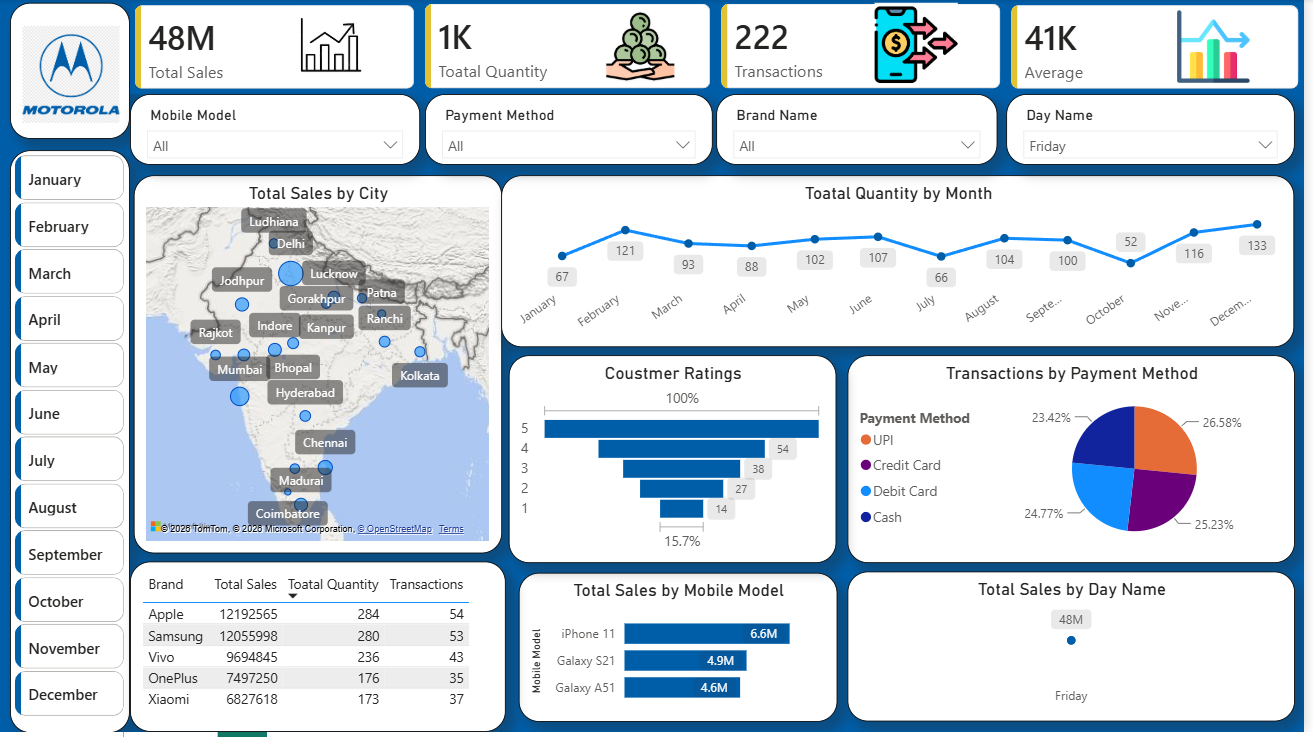

The dashboard page shown, as its layout file describes it:
{"tool":"powerbi","page":{"name":"Page 1","canvas":[1280,720],"ordinal":0},"visuals":[{"type":"shape","box":[10,3.8,117.5,133.8],"z":0},{"type":"image","box":[22.5,0,95,147.5],"z":1000},{"type":"shape","box":[10.1,148.1,117.7,572.2],"z":2000},{"type":"advancedSlicerVisual","fields":{"Values":["Sales_data.Date.Variation.Date Hierarchy.Month"]},"box":[10.1,148.1,117.7,560.8],"z":3000},{"type":"cardVisual","fields":{"Data":["Sales_data.Total Sales"]},"box":[127.6,1.2,284.7,92],"z":4000},{"type":"cardVisual","fields":{"Data":["Sales_data.Toatal Quantity"]},"box":[412.3,0,290.8,93.3],"z":5000},{"type":"cardVisual","fields":{"Data":["Sales_data.Transactions"]},"box":[703.1,0,284.7,93.3],"z":6000},{"type":"cardVisual","fields":{"Data":["Sales_data.Average"]},"box":[987.7,1.2,292,92],"z":7000},{"type":"image","box":[246.6,7.4,157.1,74.8],"z":8000},{"type":"image","box":[568.1,11,121.5,71.2],"z":9000},{"type":"image","box":[841.7,3.7,115.3,82.2],"z":10000},{"type":"image","box":[1138.7,11,104.3,71.2],"z":11000},{"type":"map","fields":{"Category":["Sales_data.City"],"Size":["Sales_data.Total Sales"]},"box":[131.2,172.5,361.2,371.2],"z":12000},{"type":"lineChart","fields":{"Category":["Sales_data.Date.Variation.Date Hierarchy.Month","Sales_data.Date.Variation.Date Hierarchy.Day"],"Y":["Sales_data.Toatal Quantity"]},"box":[492.5,172.5,778.8,168.8],"z":13000},{"type":"clusteredBarChart","fields":{"Category":["Sales_data.Mobile Model"],"Y":["Sales_data.Total Sales"]},"box":[508.8,563.8,312.5,146.2],"z":14000},{"type":"pieChart","fields":{"Y":["Sales_data.Transactions"],"Category":["Sales_data.Payment Method"]},"box":[831.9,349.7,439.3,203.7],"z":15000},{"type":"lineChart","fields":{"Category":["Sales_data.Day Name"],"Y":["Sales_data.Total Sales"]},"box":[831.9,562,439.3,147.2],"z":16000},{"type":"funnel","title":"Coustmer Ratings","fields":{"Category":["Sales_data.Customer Ratings"],"Y":["CountNonNull(Sales_data.Customer Ratings)"]},"box":[500,350,321.2,203.8],"z":17000},{"type":"tableEx","fields":{"Values":["Sales_data.Brand","Sales_data.Total Sales","Sales_data.Toatal Quantity","Sales_data.Transactions"]},"box":[127.5,552.5,368.8,167.5],"z":18000},{"type":"slicer","fields":{"Values":["Sales_data.Mobile Model"]},"box":[127.6,93.3,284.7,69.9],"z":19000},{"type":"slicer","fields":{"Values":["Sales_data.Payment Method"]},"box":[417.2,93.3,282.2,69.9],"z":20000},{"type":"slicer","fields":{"Values":["Sales_data.Brand"]},"box":[703.1,93.3,276.1,69.9],"z":21000},{"type":"slicer","fields":{"Values":["Sales_data.Day Name"]},"box":[987.7,93.3,283.4,69.9],"z":22000}]}

Visuals, with their boxes in screenshot pixels (x1, y1, x2, y2), scaled from the page's 1280x720 canvas onto the 1313x737 screenshot:
shape: <box>10,4,131,141</box>
image: <box>23,0,121,151</box>
shape: <box>10,152,131,736</box>
advancedSlicerVisual - Sales_data.Date.Variation.Date Hierarchy.Month: <box>10,152,131,726</box>
cardVisual - Sales_data.Total Sales: <box>131,1,423,95</box>
cardVisual - Sales_data.Toatal Quantity: <box>423,0,721,96</box>
cardVisual - Sales_data.Transactions: <box>721,0,1013,96</box>
cardVisual - Sales_data.Average: <box>1013,1,1312,95</box>
image: <box>253,8,414,84</box>
image: <box>583,11,707,84</box>
image: <box>863,4,982,88</box>
image: <box>1168,11,1275,84</box>
map - Sales_data.City x Sales_data.Total Sales: <box>135,177,505,557</box>
lineChart - Sales_data.Date.Variation.Date Hierarchy.Month x Sales_data.Date.Variation.Date Hierarchy.Day: <box>505,177,1304,349</box>
clusteredBarChart - Sales_data.Mobile Model x Sales_data.Total Sales: <box>522,577,842,727</box>
pieChart - Sales_data.Transactions x Sales_data.Payment Method: <box>853,358,1304,566</box>
lineChart - Sales_data.Day Name x Sales_data.Total Sales: <box>853,575,1304,726</box>
"Coustmer Ratings" funnel: <box>513,358,842,567</box>
tableEx - Sales_data.Brand x Sales_data.Total Sales: <box>131,566,509,736</box>
slicer - Sales_data.Mobile Model: <box>131,96,423,167</box>
slicer - Sales_data.Payment Method: <box>428,96,717,167</box>
slicer - Sales_data.Brand: <box>721,96,1004,167</box>
slicer - Sales_data.Day Name: <box>1013,96,1304,167</box>
